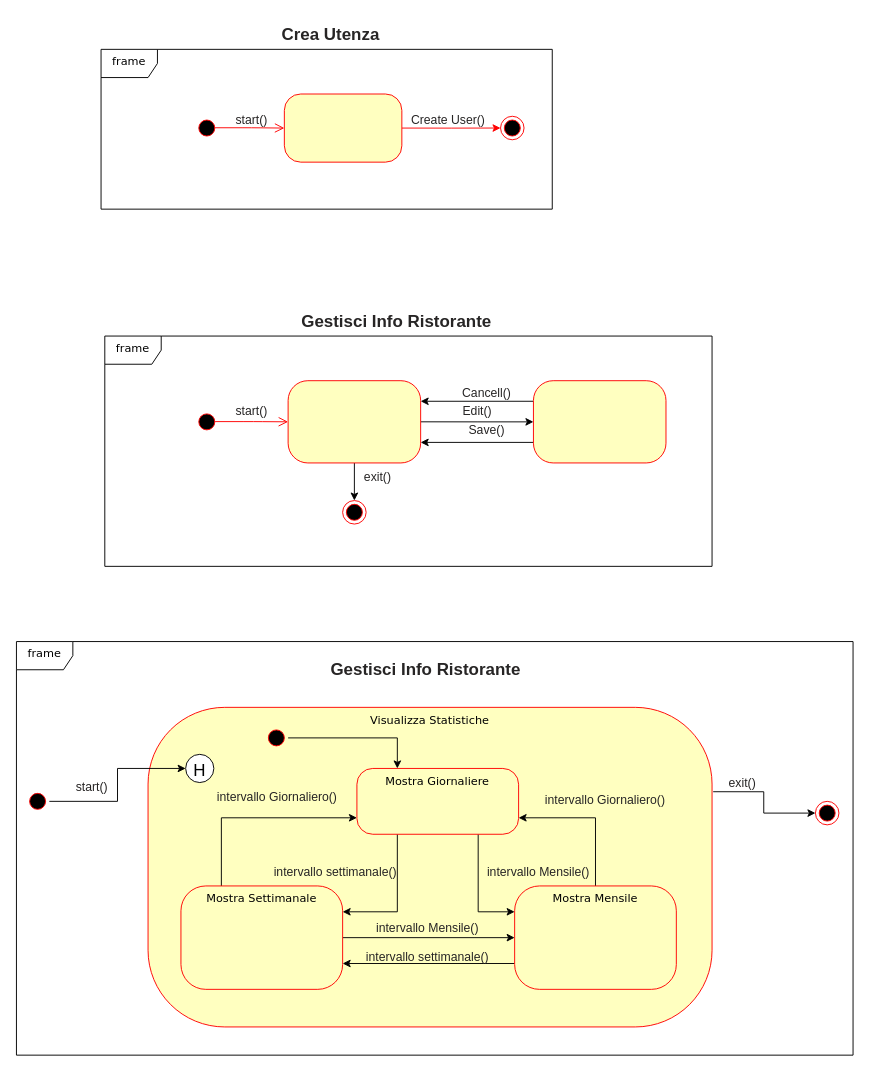
The diagram is 870 pixels wide and 1072 high, and some of its shapes have lost their labels. Each missing label, with the centre of its shape:
Inserimento Dati Utente: (x=342, y=127)
Modifica Info Ristorante: (x=599, y=421)
Visualizza Info Ristorante: (x=354, y=421)
